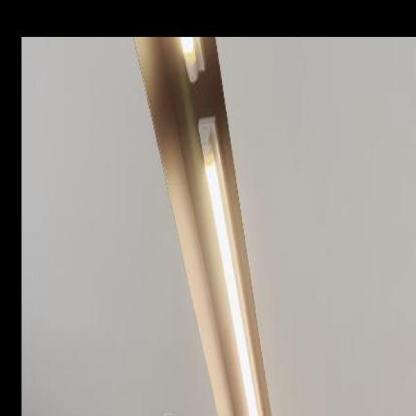light_on: (194, 111, 294, 415), (162, 0, 217, 89)
